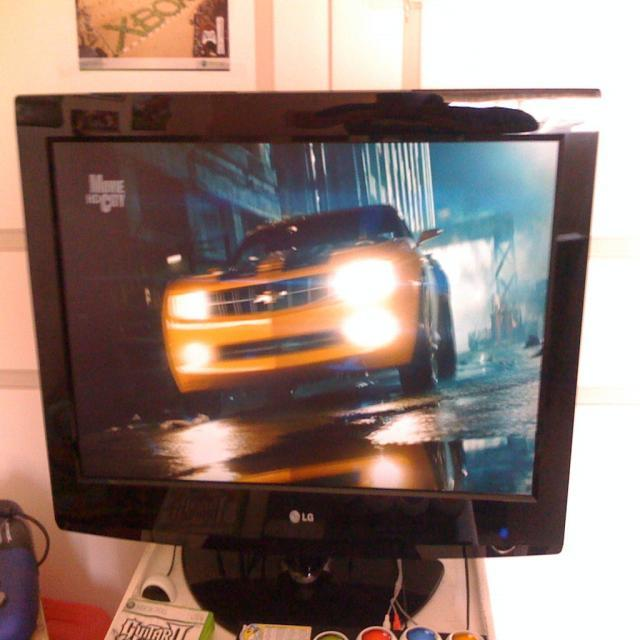others: (2, 80, 616, 629)
